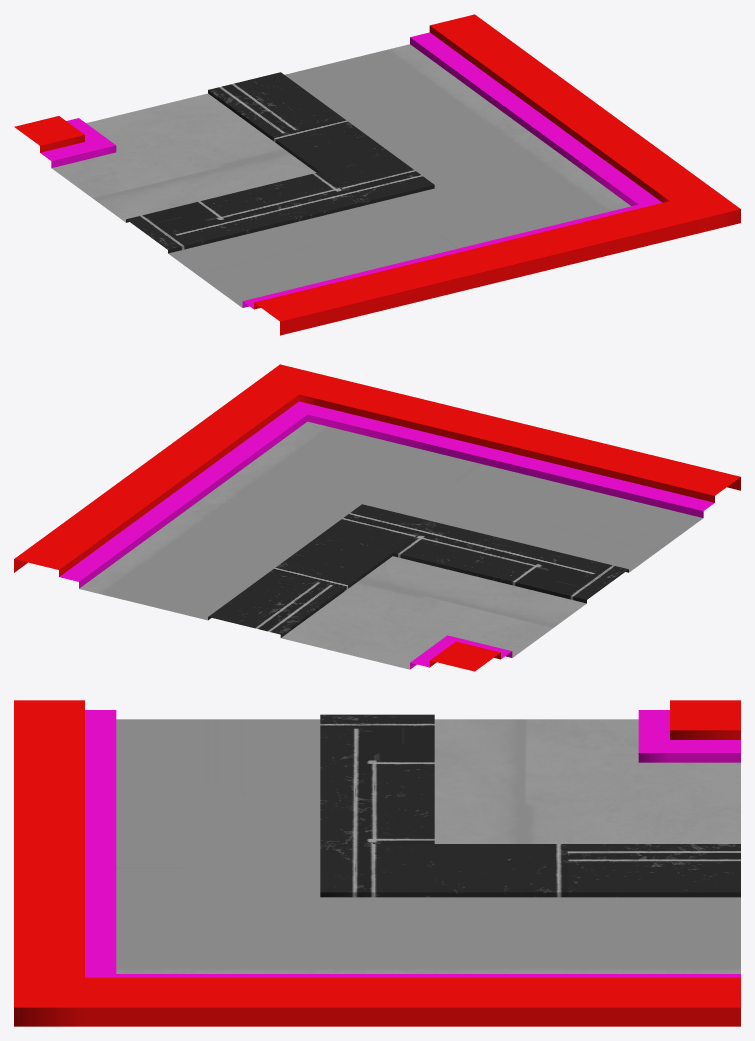
The model's file is Floor-Turn.fbx.
The picture shows the model from 3 angles, top to bottom: view 1: azimuth 30°, elevation 25°; view 2: azimuth 150°, elevation 25°; view 3: azimuth 270°, elevation 25°; orthographic projection. The views are drawn at different scales.
Parts seen in each view (by area): view 1: Turn; view 2: Turn; view 3: Turn.
Part boxes in pixels (bbox=[...]): Turn: bbox=[14, 14, 740, 335]; Turn: bbox=[14, 364, 740, 671]; Turn: bbox=[14, 700, 740, 1026].
Bounding box in the file's own units: 78.74 × 2.28 × 78.74.
Materials: 4 (2 with a texture image).
